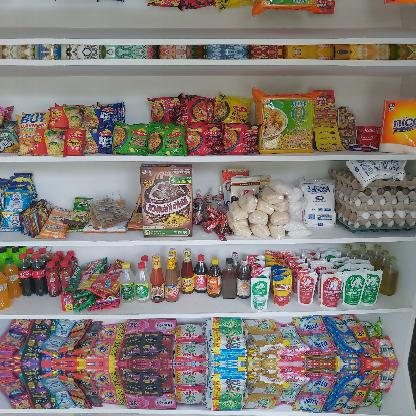Koko-Krunch: (138, 162, 194, 238)
